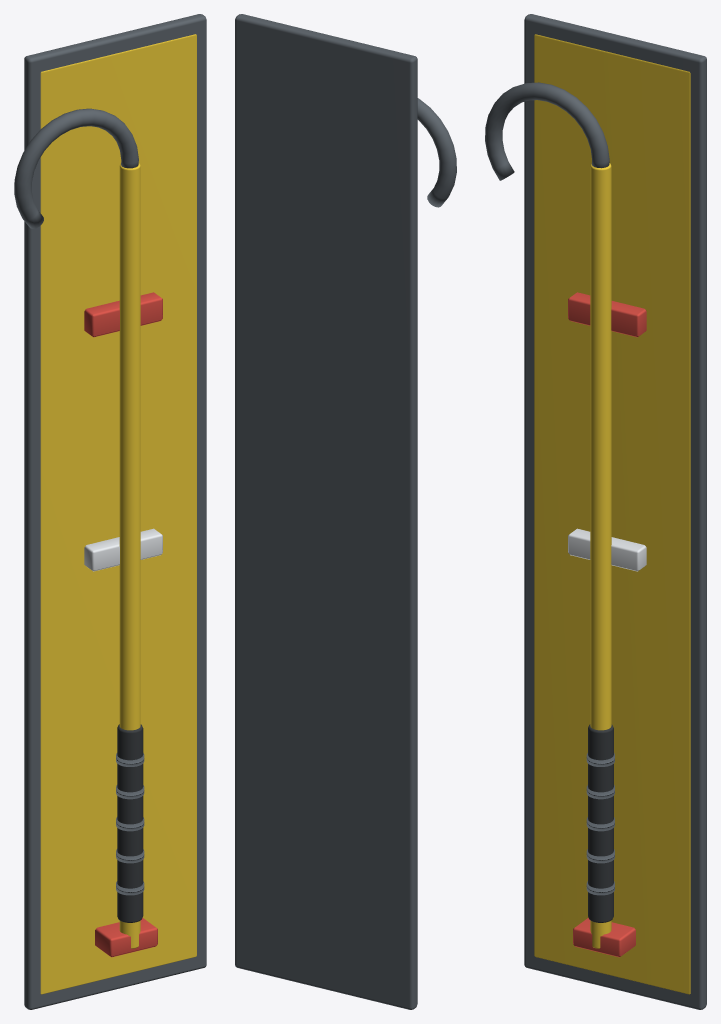
File: rescue-hook.glb
The picture shows the model from 3 angles, left to right: view 1: azimuth 30°, elevation 25°; view 2: azimuth 150°, elevation 25°; view 3: azimuth 330°, elevation 25°; orthographic projection.
Parts seen in each view (by area): view 1: HVRescueHookAssembly; view 2: HVRescueHookAssembly; view 3: HVRescueHookAssembly.
Boxes of the visible parts, left/top/right/bottom form: HVRescueHookAssembly: left=14, top=14, right=206, bottom=1009; HVRescueHookAssembly: left=235, top=14, right=456, bottom=1009; HVRescueHookAssembly: left=485, top=14, right=706, bottom=1009.
Size of the model in its own units: 0.3995 by 1.78 by 0.085.
